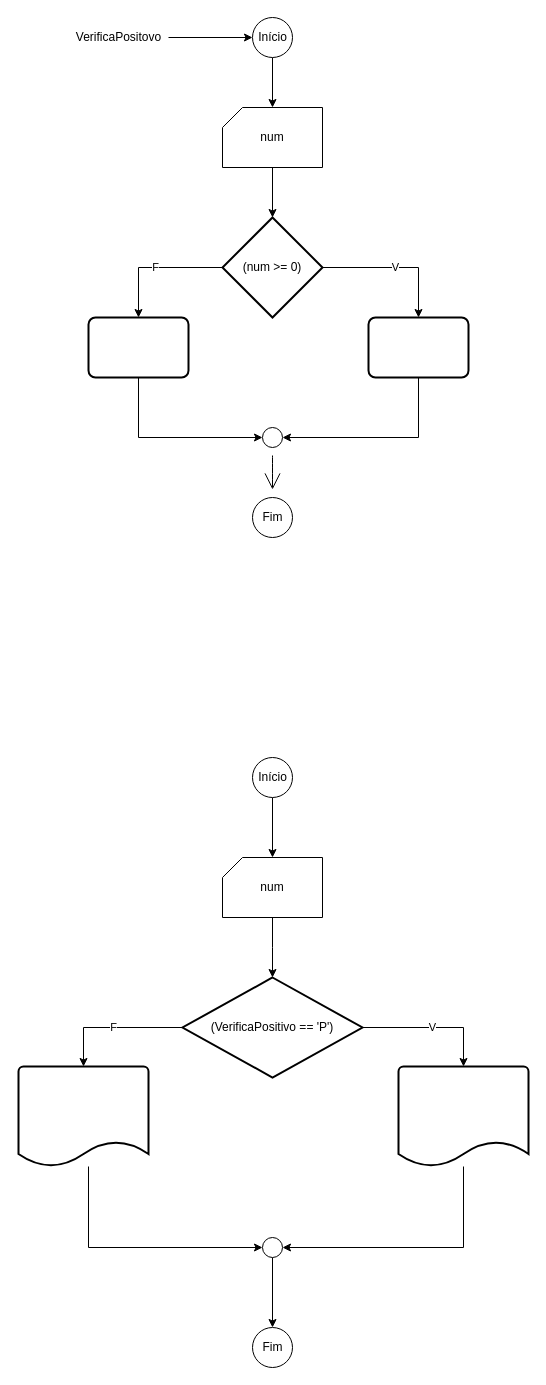
Image size: 546x1385. Some labels were removed from this diagram. The shapes that lost their labels are listed below. From the top down, each one's centre as x and y in pixels, then its label:
(x=138, y=347): Retorna 'N'
(x=418, y=347): Retorna 'P"
(x=83, y=1116): Escreva << "O número é NEGATIVO!" << endl
(x=463, y=1116): Escreva << "O número é POSITIVO!" << endl
